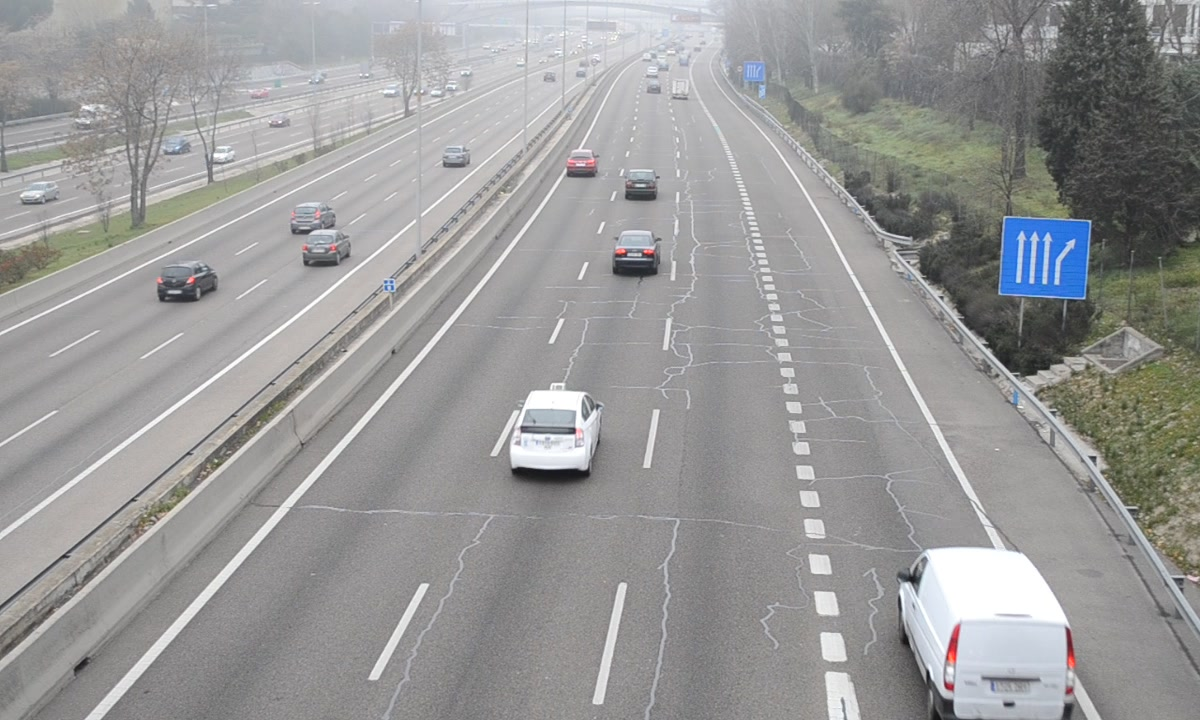car: (509, 389, 597, 471), (614, 228, 657, 268), (624, 168, 657, 199), (565, 149, 595, 174)
van: (901, 546, 1073, 720)
